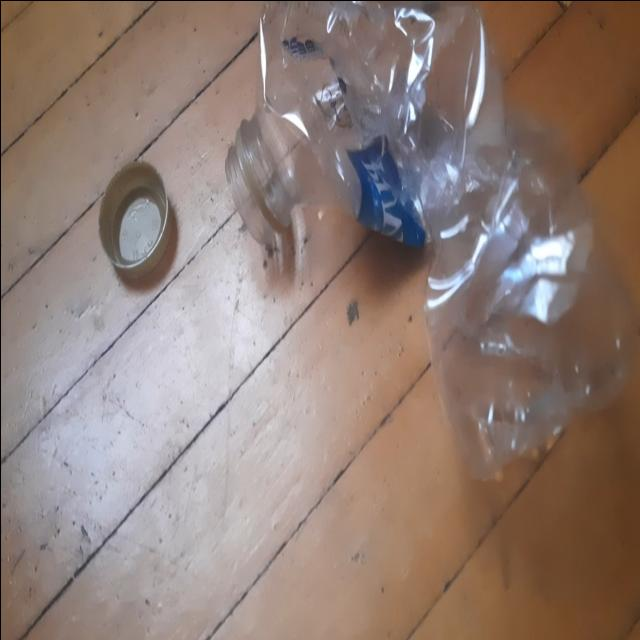Plastic: (246, 2, 636, 482)
